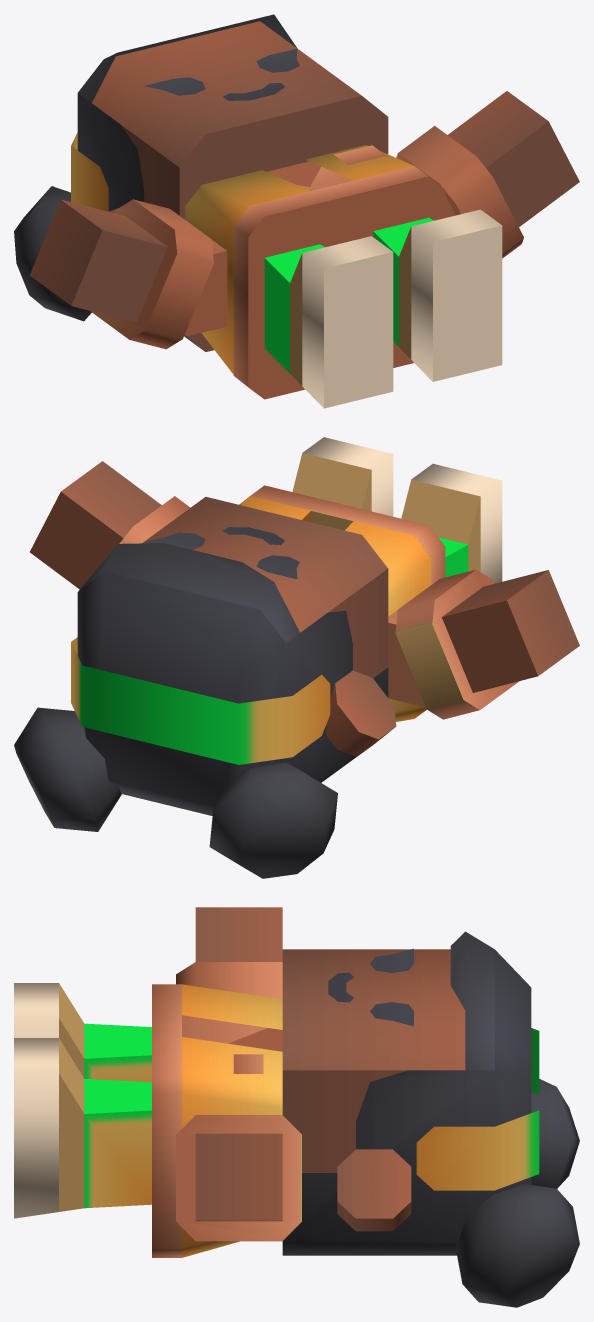
Rendered from character-employee.004.obj.
3 renders of one model, top to bottom at view 1: azimuth 30°, elevation 25°; view 2: azimuth 150°, elevation 25°; view 3: azimuth 270°, elevation 25°, orthographic. The views are drawn at different scales.
Visible parts, largest first — view 1: character-employee.002; view 2: character-employee.002; view 3: character-employee.002.
Part boxes in pixels (x1,y1,x2,y2): character-employee.002: (14,14,579,408); character-employee.002: (14,437,579,878); character-employee.002: (14,907,579,1307).
Size of the model in its own units: 0.7806 by 0.4014 by 0.7234.
